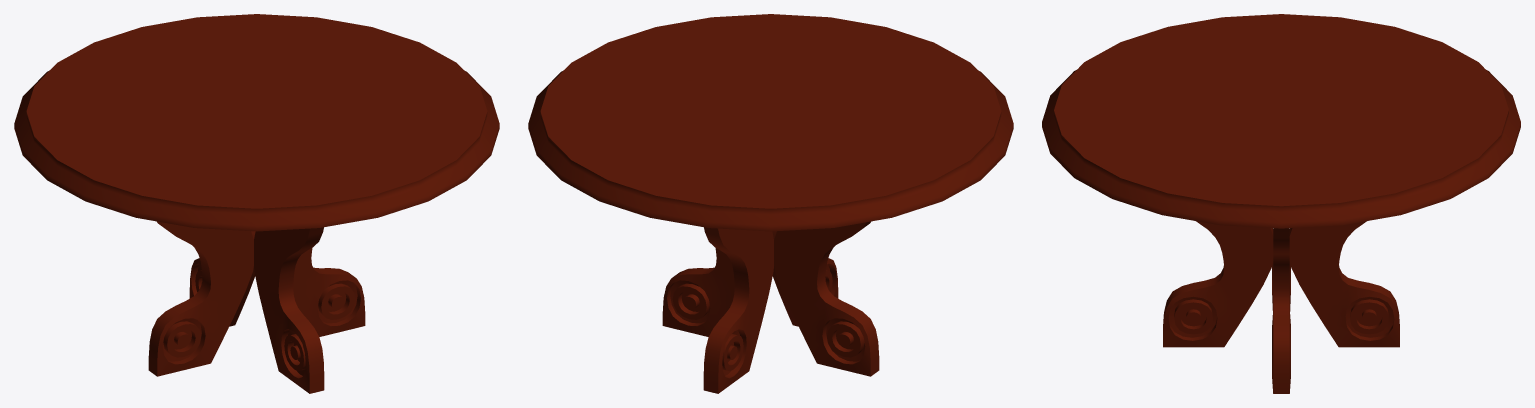
File: o_env_tableA.FBX
3 renders of one model, left to right at view 1: azimuth 30°, elevation 25°; view 2: azimuth 150°, elevation 25°; view 3: azimuth 270°, elevation 25°, orthographic.
Visible parts, largest first — view 1: o_env_tableA; view 2: o_env_tableA; view 3: o_env_tableA.
Part boxes in pixels (<box>): o_env_tableA: <box>14,14,499,393</box>; o_env_tableA: <box>528,14,1013,393</box>; o_env_tableA: <box>1042,14,1520,393</box>.
Size of the model in its own units: 130 by 69.89 by 130.
